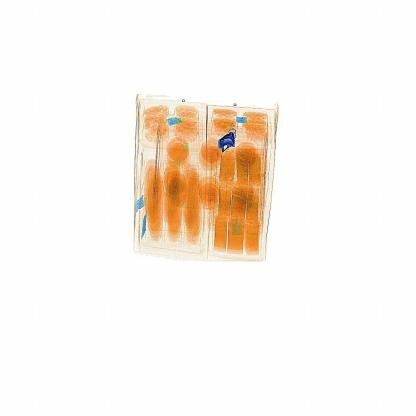knife: (212, 123, 244, 159)
